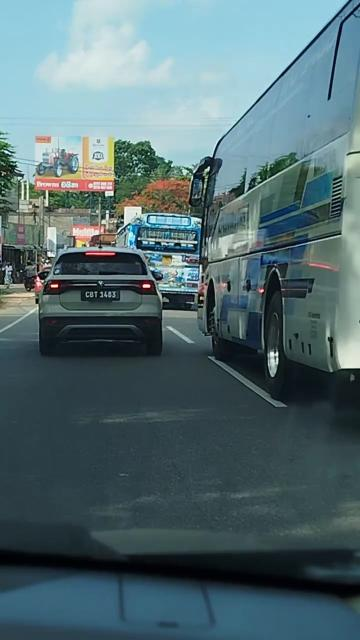number plate: (75, 279, 132, 310)
